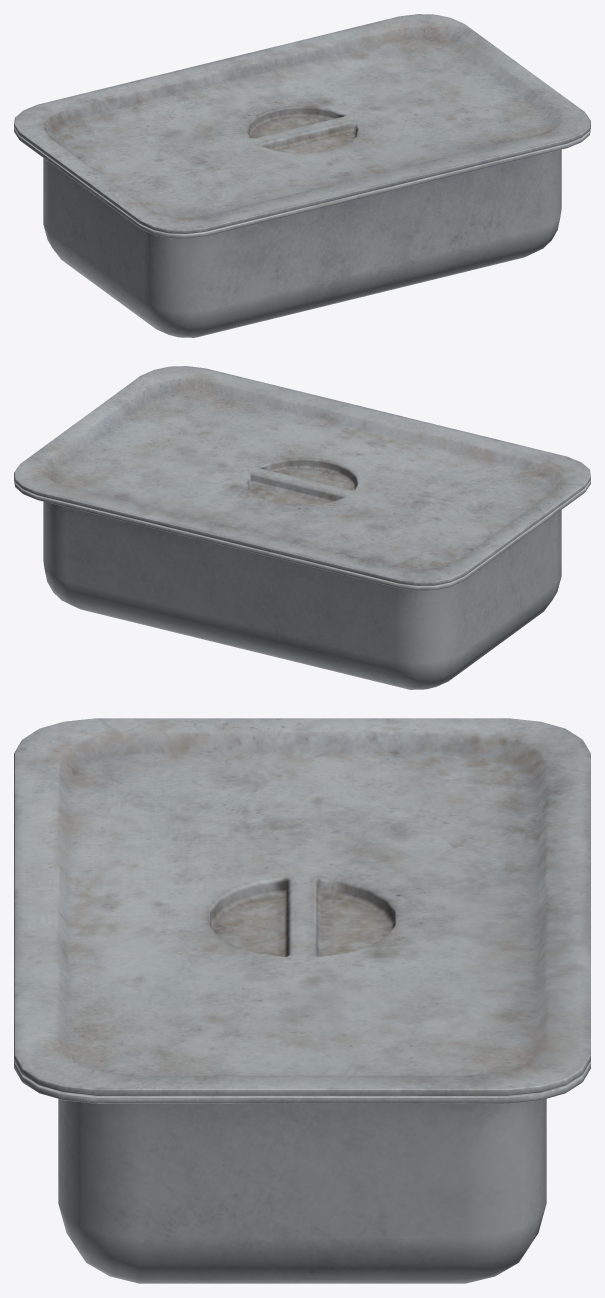
File: SM_Countainer.fbx
The picture shows the model from 3 angles, top to bottom: view 1: azimuth 30°, elevation 25°; view 2: azimuth 150°, elevation 25°; view 3: azimuth 270°, elevation 25°; orthographic projection. The views are drawn at different scales.
Visible parts, largest first — view 1: SM_Container_01_Lid_1, SM_Container_01_1; view 2: SM_Container_01_Lid_1, SM_Container_01_1; view 3: SM_Container_01_Lid_1, SM_Container_01_1.
Part boxes in pixels (bbox=[...]): SM_Container_01_Lid_1: bbox=[14, 14, 590, 233]; SM_Container_01_1: bbox=[14, 125, 590, 337]; SM_Container_01_Lid_1: bbox=[14, 366, 590, 585]; SM_Container_01_1: bbox=[14, 477, 590, 689]; SM_Container_01_Lid_1: bbox=[14, 718, 590, 1095]; SM_Container_01_1: bbox=[14, 1061, 590, 1283].
Size of the model in its own units: 53.97 by 16.02 by 35.45.
